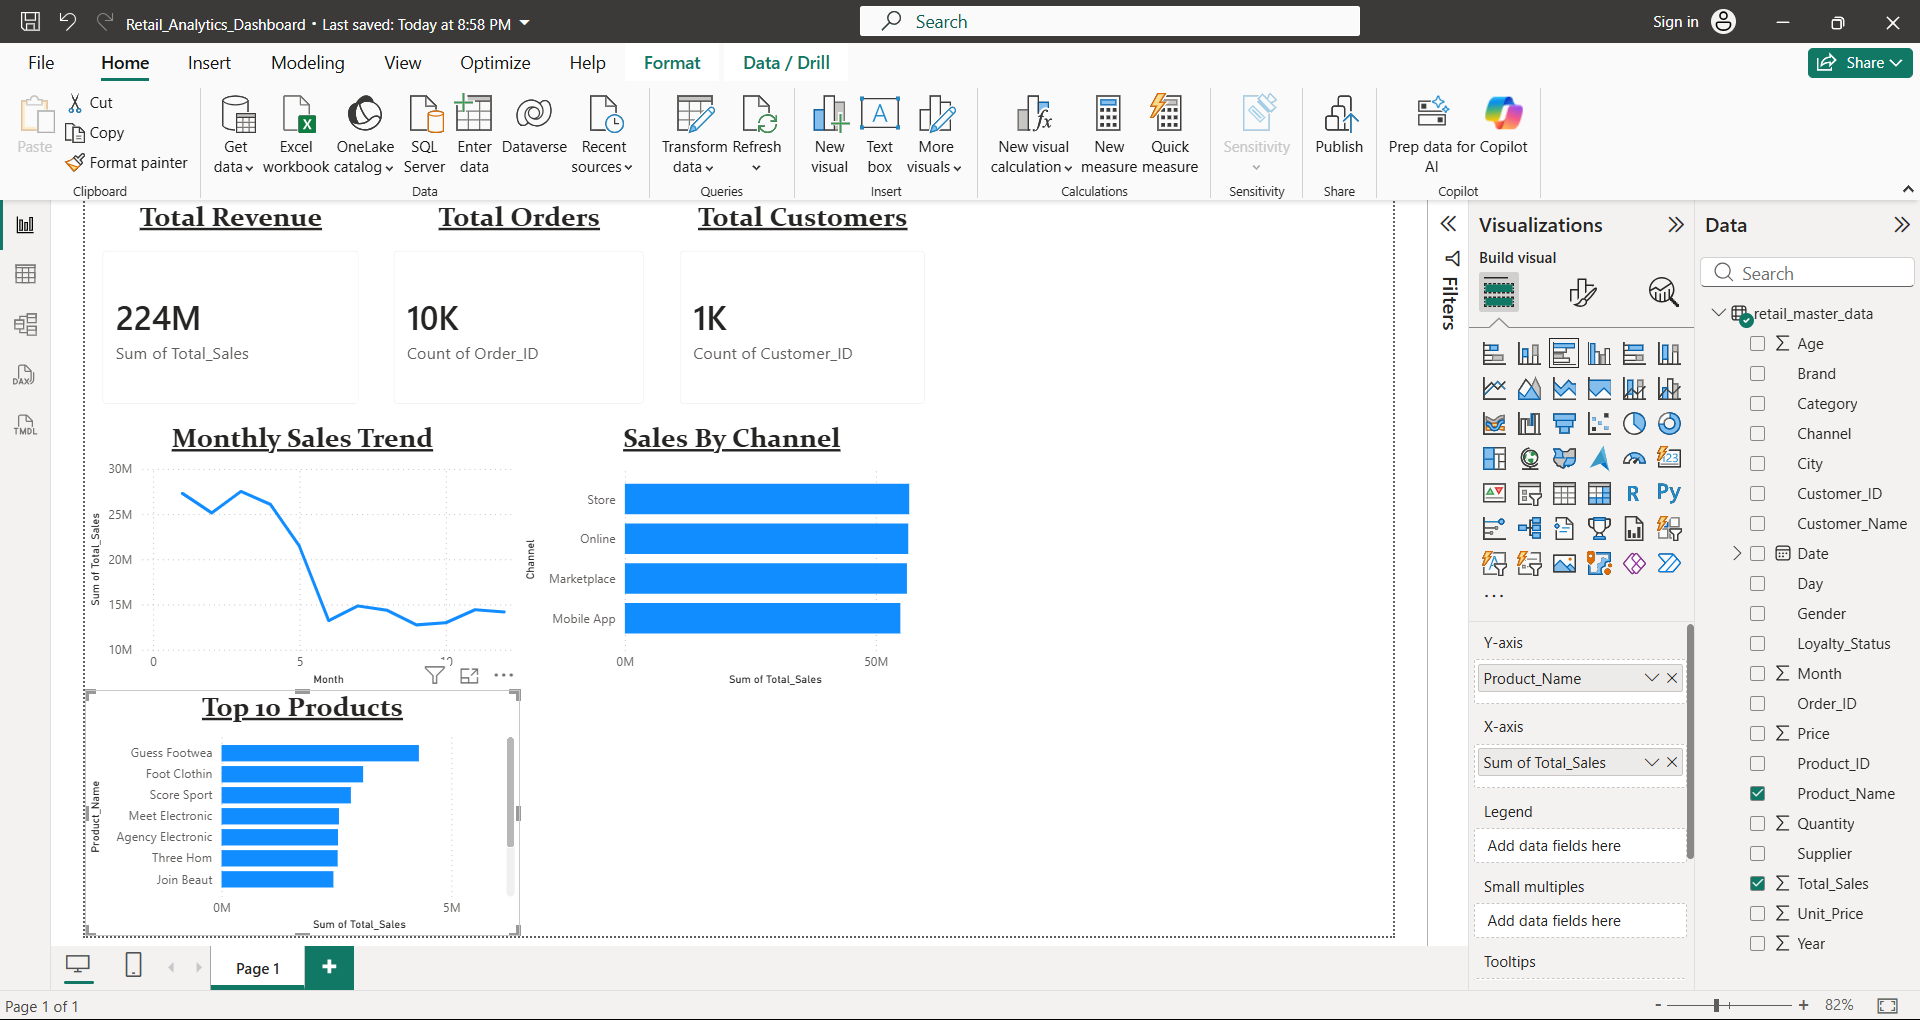

This screenshot's page, from the dashboard's own definition file:
{"tool":"powerbi","page":{"name":"Page 1","canvas":[1280,720],"ordinal":0},"visuals":[{"type":"cardVisual","title":"Total Revenue","fields":{"Data":["Sum(retail_master_data.Total_Sales)"]},"box":[0,0,285.4,216.8],"z":0},{"type":"cardVisual","title":"Total Orders","fields":{"Data":["CountNonNull(retail_master_data.Order_ID)"]},"box":[285.4,0,279.9,216.8],"z":1000},{"type":"cardVisual","title":"Total Customers","fields":{"Data":["Count(retail_master_data.Customer_ID)"]},"box":[565.4,0,274.4,216.8],"z":2000},{"type":"lineChart","title":"Monthly Sales Trend","fields":{"Category":["retail_master_data.Month"],"Y":["Sum(retail_master_data.Total_Sales)"]},"box":[0,216.8,425.4,263.5],"z":3000},{"type":"clusteredBarChart","title":"Sales By Channel","fields":{"Category":["retail_master_data.Channel"],"Y":["Sum(retail_master_data.Total_Sales)"]},"box":[425.4,216.8,414.4,263.5],"z":4000},{"type":"clusteredBarChart","title":"Top 10 Products","fields":{"Category":["retail_master_data.Product_Name"],"Y":["Sum(retail_master_data.Total_Sales)"]},"box":[0,479.4,425.5,240.9],"z":4001}]}

Visuals, with their boxes on the page's 1280x720 design canvas (x1, y1, x2, y2). These are canvas units, not pixel positions in the 1920x1020 screenshot, which may show the page scaled, cropped or inside an application window:
"Total Revenue" cardVisual: BBox(0, 0, 285, 217)
"Total Orders" cardVisual: BBox(285, 0, 565, 217)
"Total Customers" cardVisual: BBox(565, 0, 840, 217)
"Monthly Sales Trend" lineChart: BBox(0, 217, 425, 480)
"Sales By Channel" clusteredBarChart: BBox(425, 217, 840, 480)
"Top 10 Products" clusteredBarChart: BBox(0, 479, 426, 720)
